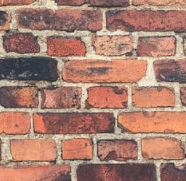brick: (106, 9, 186, 33), (63, 60, 147, 82), (34, 113, 114, 135), (117, 111, 186, 134), (76, 163, 155, 181), (1, 163, 72, 179), (55, 9, 105, 31), (8, 139, 58, 161), (139, 137, 184, 159), (131, 86, 175, 108), (85, 87, 127, 108), (15, 8, 55, 30), (46, 34, 86, 56), (1, 86, 38, 109), (43, 87, 82, 108), (97, 139, 139, 158), (139, 36, 178, 56), (60, 137, 95, 159), (153, 59, 186, 82), (1, 111, 32, 135), (93, 37, 134, 55), (5, 32, 39, 53)
